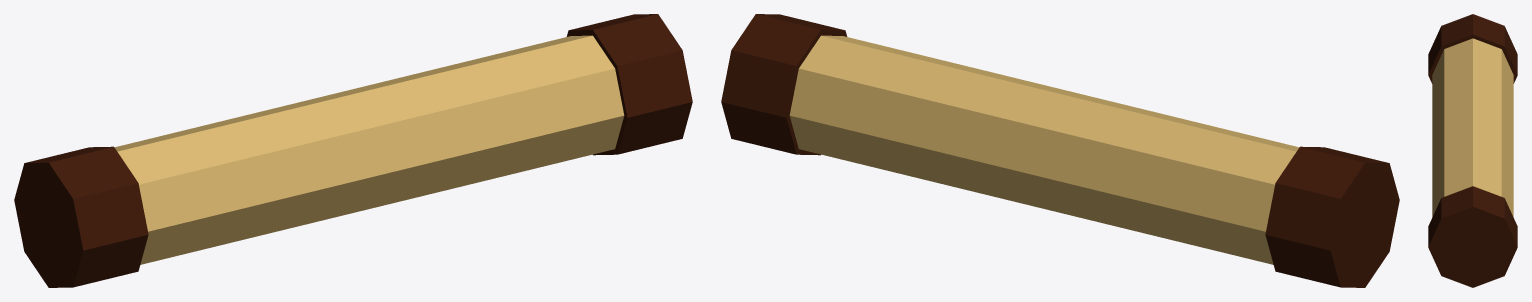
File: scroll.obj
3 renders of one model, left to right at view 1: azimuth 30°, elevation 25°; view 2: azimuth 150°, elevation 25°; view 3: azimuth 270°, elevation 25°, orthographic. The views are drawn at different scales.
Visible parts, largest first — view 1: scroll; view 2: scroll; view 3: scroll.
Boxes of the visible parts, left/top/right/bottom form: scroll: left=14, top=14, right=692, bottom=287; scroll: left=721, top=14, right=1399, bottom=287; scroll: left=1428, top=14, right=1517, bottom=287.
Bounding box in the file's own units: 0.56 × 0.11 × 0.11.
